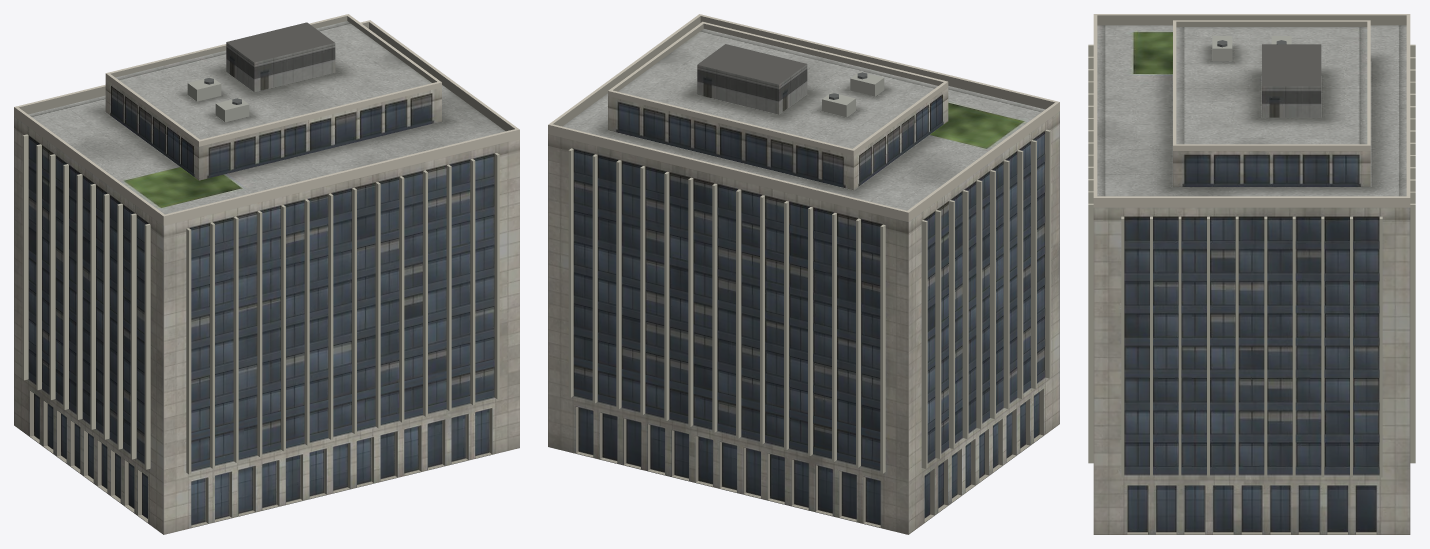
The model's file is dc_office_glass_a.glb.
The picture shows the model from 3 angles, left to right: view 1: azimuth 30°, elevation 25°; view 2: azimuth 150°, elevation 25°; view 3: azimuth 270°, elevation 25°; orthographic projection. The views are drawn at different scales.
Visible parts, largest first — view 1: dc_office_glass_a; view 2: dc_office_glass_a; view 3: dc_office_glass_a.
Boxes of the visible parts, <box> form: dc_office_glass_a: <box>14,14,519,534</box>; dc_office_glass_a: <box>548,14,1059,534</box>; dc_office_glass_a: <box>1088,14,1415,534</box>.
Bounding box in the file's own units: 45.1 × 44 × 33.1.
Materials: 1 (1 with a texture image).
